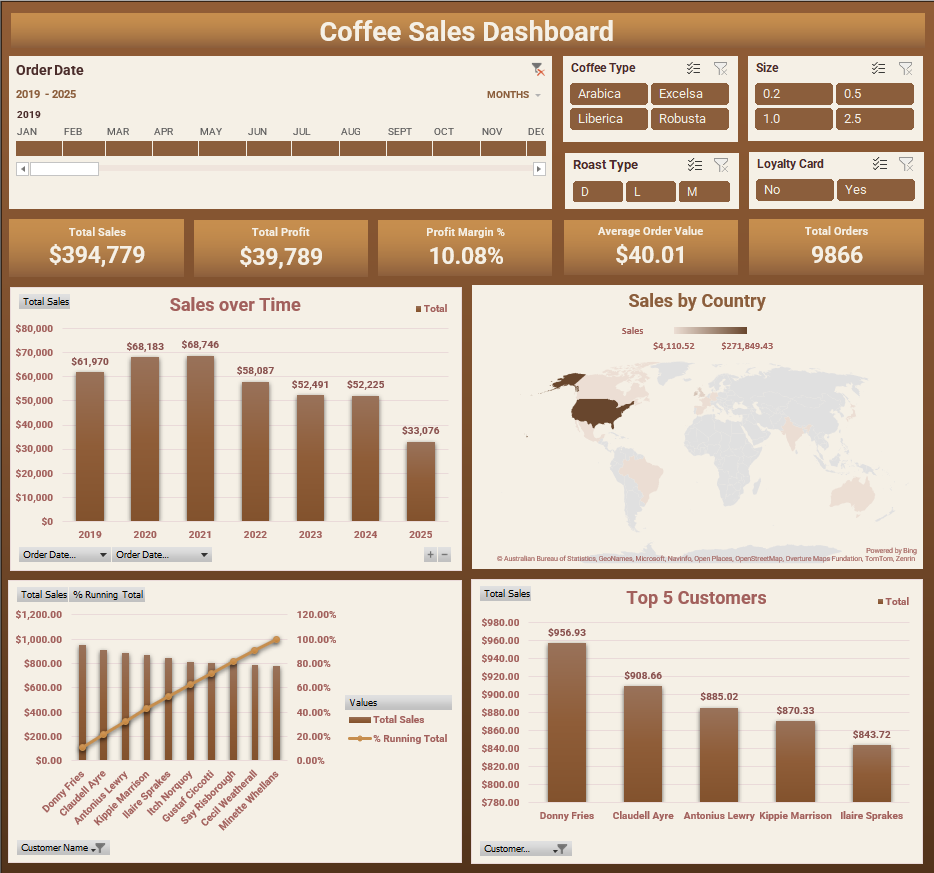

The page's visual inventory and layout, read from the dashboard file:
{"tool":"powerbi","page":{"name":"Charts & KPIs","canvas":[1280,720],"ordinal":0},"visuals":[{"type":"actionButton","box":[0,0,1280,719.8],"z":0},{"type":"lineClusteredColumnComboChart","title":"Sales over Time","fields":{"Category":["Orders.Order Date.Variation.Date Hierarchy.Year"],"Y":["Key Measures.Total Sales Amount"]},"box":[17.5,74.9,466.9,268.4],"z":1000},{"type":"cardVisual","fields":{"Data":["Key Measures.Total Sales Amount"]},"box":[11.7,354,190,73.9],"z":2000},{"type":"cardVisual","fields":{"Data":["Key Measures.Average Order Value"]},"box":[399.8,353.1,190,74.9],"z":3000},{"type":"cardVisual","fields":{"Data":["Key Measures.Count of Orders"]},"box":[593.8,355,190,72.9],"z":4000},{"type":"cardVisual","fields":{"Data":["Key Measures.Total Profit Amount"]},"box":[205.7,354,190,73.9],"z":5000},{"type":"cardVisual","fields":{"Data":["Key Measures.Profit Margin %"]},"box":[787.8,356,189.7,72],"z":6000},{"type":"azureMap","title":"Sales by Country","fields":{"Category":["Customers.Country"],"Size":["Key Measures.Total Sales Amount"]},"box":[501.9,437.7,466.9,268.4],"z":7000},{"type":"barChart","title":"Top 5 Customers","fields":{"Category":["Customers.Customer Name"],"Y":["Key Measures.Total Sales Amount"]},"box":[501.9,74.9,466.9,268.4],"z":8000},{"type":"lineStackedColumnComboChart","title":"Pareto Chart","fields":{"Y":["Key Measures.Total Sales Amount"],"Category":["Customers.Customer Name"],"Y2":["Key Measures.Pareto % Cumulative"]},"box":[17.5,437.7,466.9,268.4],"z":9000},{"type":"slicer","title":"Order Date Range","fields":{"Values":["Orders.Order Date"]},"box":[985.3,127.4,280.1,130.3],"z":10000},{"type":"advancedSlicerVisual","fields":{"Values":["Products.Size"]},"box":[985.3,404.6,280.1,119.6],"z":11000},{"type":"advancedSlicerVisual","fields":{"Values":["Customers.Loyalty Card"]},"box":[985.3,631.2,280.1,74.9],"z":12000},{"type":"advancedSlicerVisual","fields":{"Values":["Products.Roast Type"]},"box":[985.3,540.8,280.1,74.9],"z":13000},{"type":"advancedSlicerVisual","fields":{"Values":["Products.Coffee Type"]},"box":[985.3,271.4,280.1,119.6],"z":14000},{"type":"actionButton","box":[17.5,13.6,1247.9,43.8],"z":15000},{"type":"actionButton","box":[985.3,74.9,280.1,38.9],"z":16000}]}

Visuals, with their boxes on the page's 1280x720 design canvas (x1, y1, x2, y2). These are canvas units, not pixel positions in the 934x873 screenshot, which may show the page scaled, cropped or inside an application window:
actionButton: {"x1": 0, "y1": 0, "x2": 1280, "y2": 720}
"Sales over Time" lineClusteredColumnComboChart: {"x1": 18, "y1": 75, "x2": 484, "y2": 343}
cardVisual - Key Measures.Total Sales Amount: {"x1": 12, "y1": 354, "x2": 202, "y2": 428}
cardVisual - Key Measures.Average Order Value: {"x1": 400, "y1": 353, "x2": 590, "y2": 428}
cardVisual - Key Measures.Count of Orders: {"x1": 594, "y1": 355, "x2": 784, "y2": 428}
cardVisual - Key Measures.Total Profit Amount: {"x1": 206, "y1": 354, "x2": 396, "y2": 428}
cardVisual - Key Measures.Profit Margin %: {"x1": 788, "y1": 356, "x2": 978, "y2": 428}
"Sales by Country" azureMap: {"x1": 502, "y1": 438, "x2": 969, "y2": 706}
"Top 5 Customers" barChart: {"x1": 502, "y1": 75, "x2": 969, "y2": 343}
"Pareto Chart" lineStackedColumnComboChart: {"x1": 18, "y1": 438, "x2": 484, "y2": 706}
"Order Date Range" slicer: {"x1": 985, "y1": 127, "x2": 1265, "y2": 258}
advancedSlicerVisual - Products.Size: {"x1": 985, "y1": 405, "x2": 1265, "y2": 524}
advancedSlicerVisual - Customers.Loyalty Card: {"x1": 985, "y1": 631, "x2": 1265, "y2": 706}
advancedSlicerVisual - Products.Roast Type: {"x1": 985, "y1": 541, "x2": 1265, "y2": 616}
advancedSlicerVisual - Products.Coffee Type: {"x1": 985, "y1": 271, "x2": 1265, "y2": 391}
actionButton: {"x1": 18, "y1": 14, "x2": 1265, "y2": 57}
actionButton: {"x1": 985, "y1": 75, "x2": 1265, "y2": 114}
